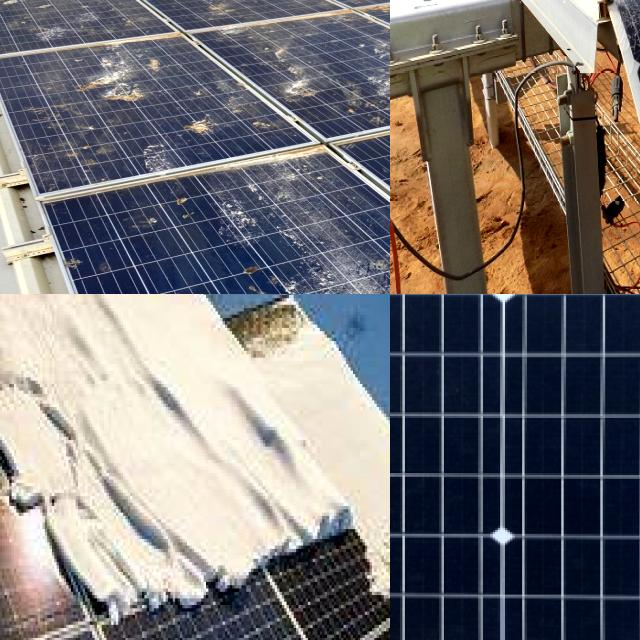bird: (66, 44, 164, 100), (264, 56, 342, 114), (152, 106, 223, 144), (197, 0, 259, 30), (326, 0, 390, 13)
crack: (390, 294, 640, 640)
panel: (9, 484, 176, 620), (171, 536, 333, 613), (0, 323, 68, 480), (228, 460, 354, 540), (353, 516, 390, 640), (0, 294, 51, 370)
